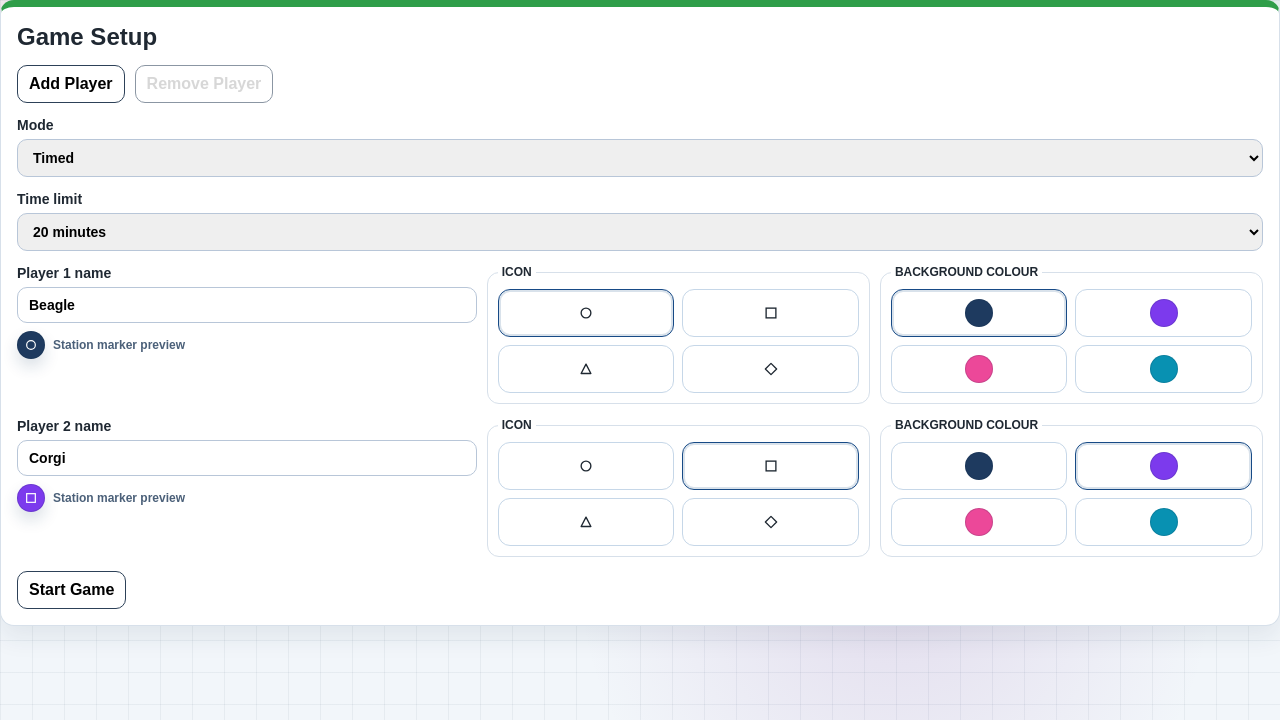
it: SetupScreen › adds another dog breed when increasing the player count
Click the button "Add Player" at {"x": 71, "y": 84}, box [17,65,125,103]
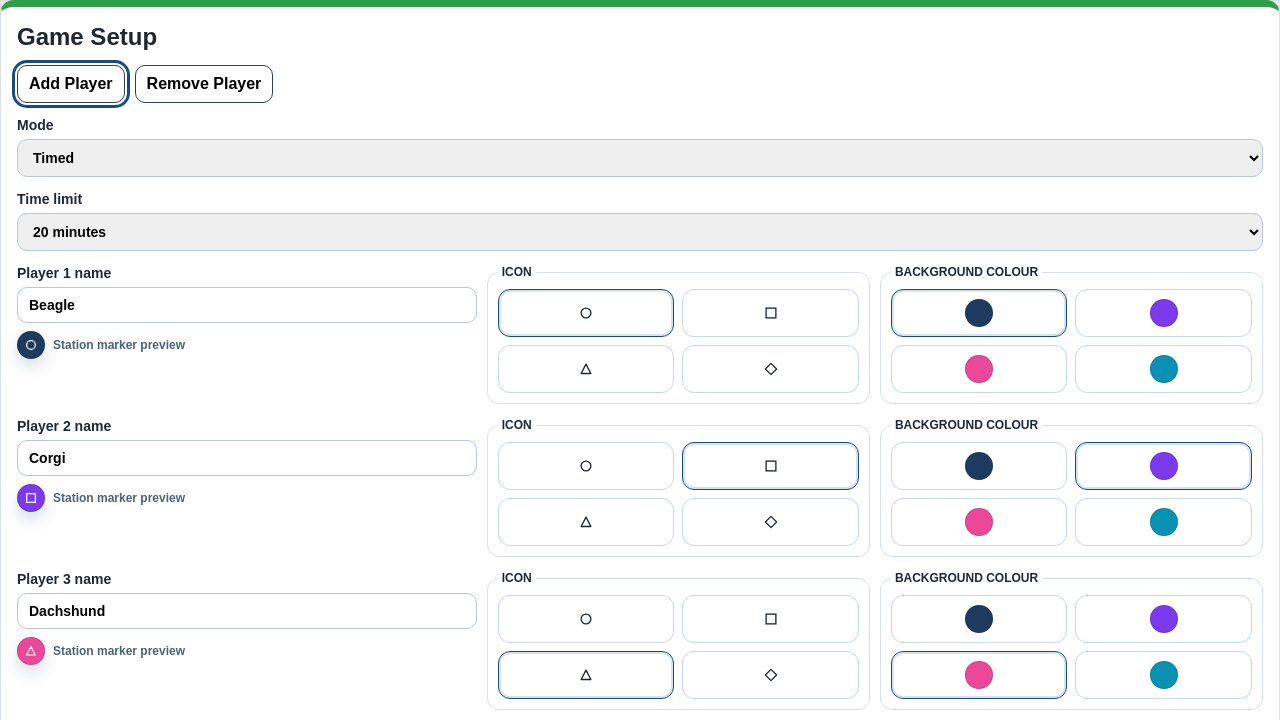
expect the field labelled "Player 3 name" holds "Dachshund": met, box [17,593,477,629]
